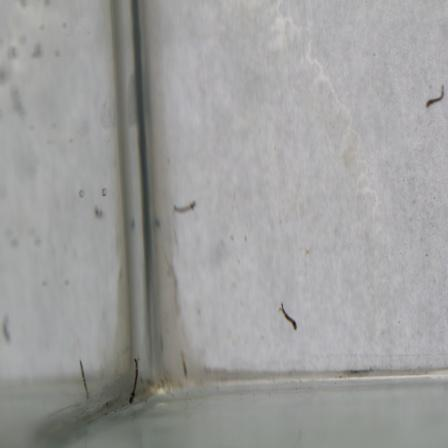Jentik-Nyamuk: (276, 299, 302, 335), (125, 354, 141, 408)
